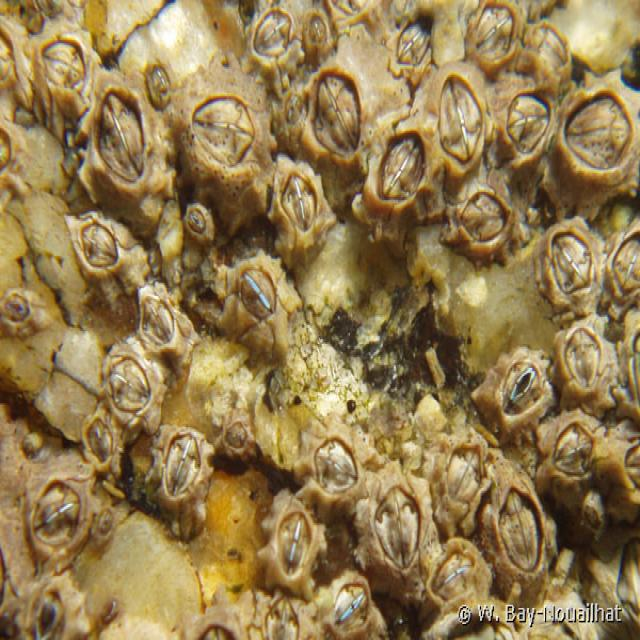barnacles: (176, 58, 278, 215), (83, 67, 175, 232), (562, 72, 636, 210), (361, 106, 438, 237), (481, 467, 556, 601), (472, 336, 557, 436), (365, 477, 435, 591), (222, 252, 297, 355), (307, 67, 377, 176), (435, 66, 494, 186), (545, 405, 613, 509), (259, 491, 326, 596), (152, 422, 214, 532), (63, 207, 144, 291), (538, 212, 603, 314), (304, 406, 369, 507), (272, 170, 338, 269), (427, 429, 491, 531), (23, 471, 90, 559), (447, 178, 512, 267), (106, 338, 163, 439), (503, 84, 558, 188), (33, 25, 95, 114), (136, 284, 202, 364), (559, 318, 618, 405), (428, 534, 493, 612), (378, 0, 434, 82), (245, 4, 301, 82), (466, 0, 521, 78), (317, 568, 378, 638), (212, 390, 260, 473), (607, 216, 640, 326), (528, 26, 573, 95), (82, 424, 126, 481), (183, 197, 220, 254)
